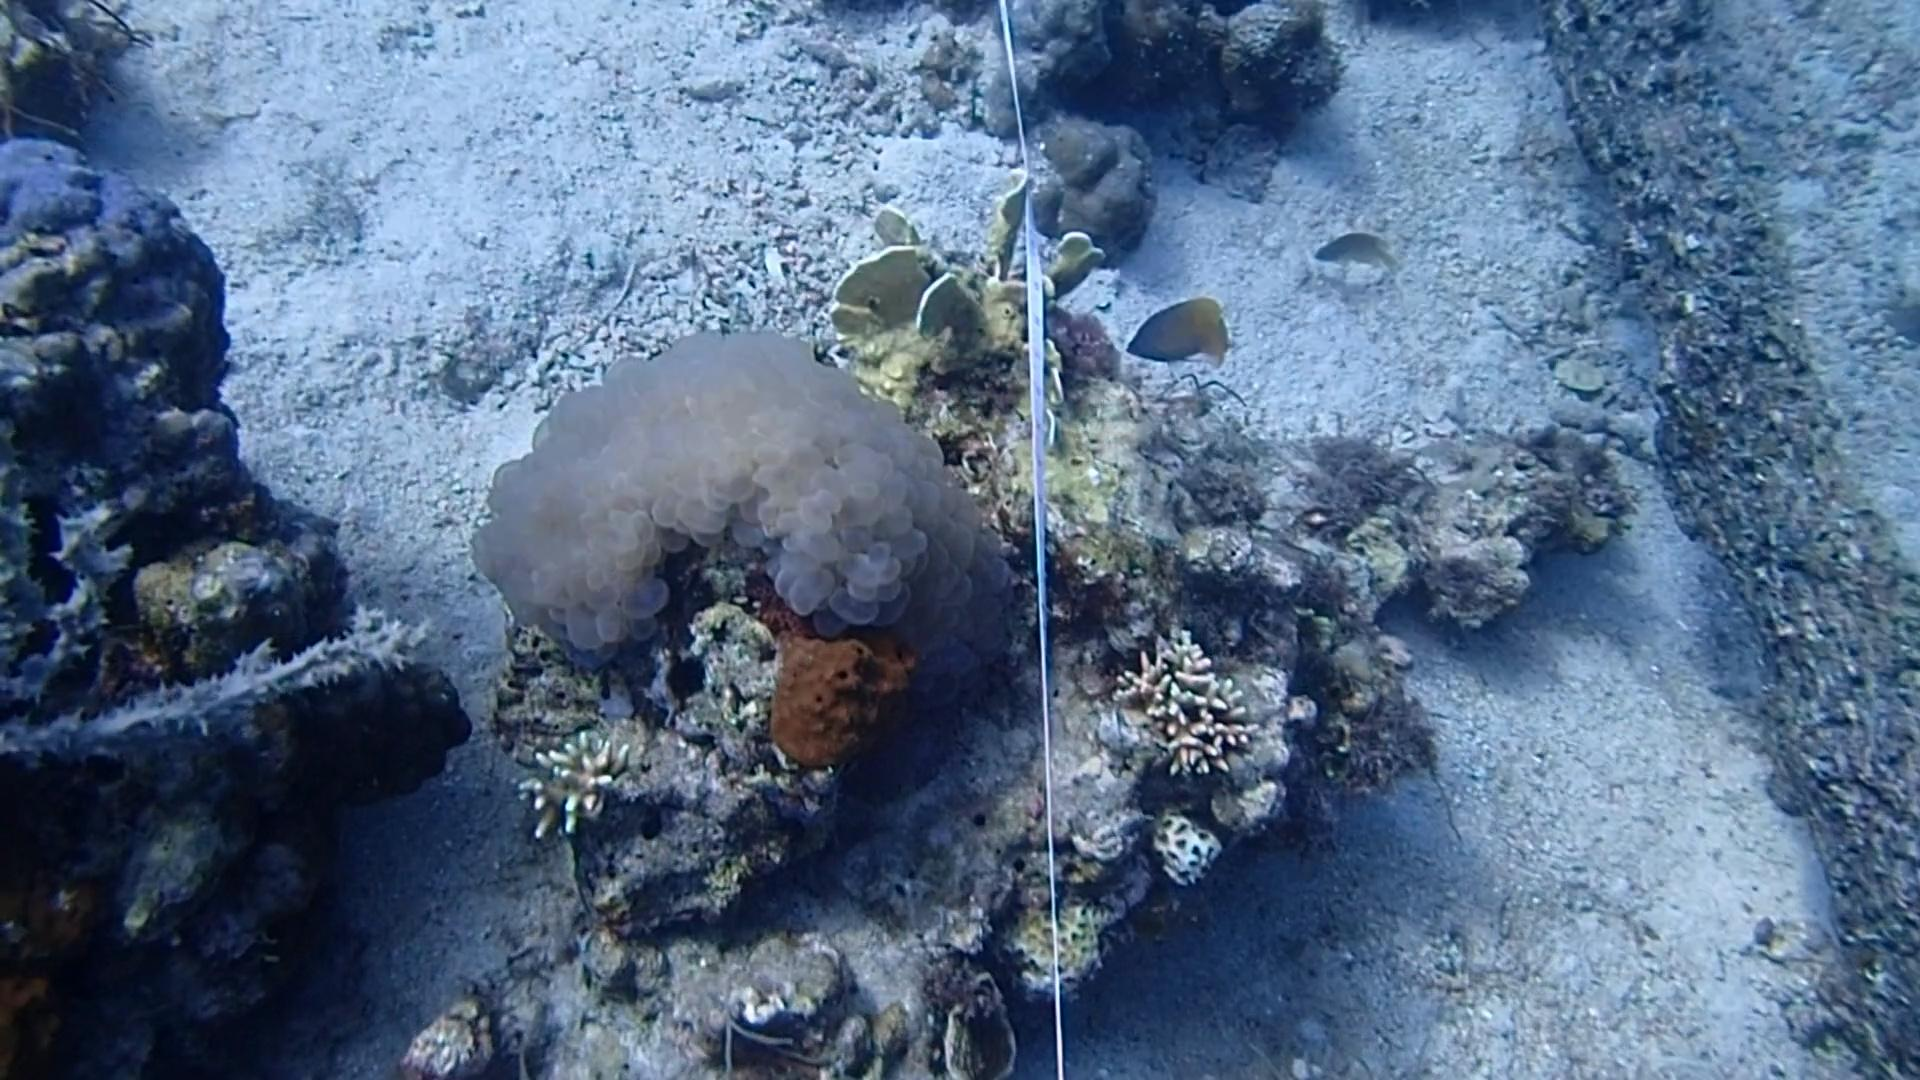Light Fish: (1302, 212, 1402, 278)
Yellow-Blue Fish: (1121, 286, 1250, 375)
